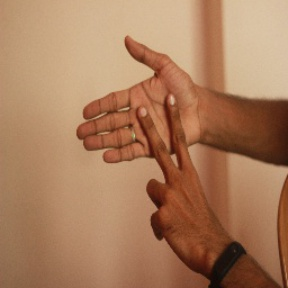N: (71, 33, 216, 225)
